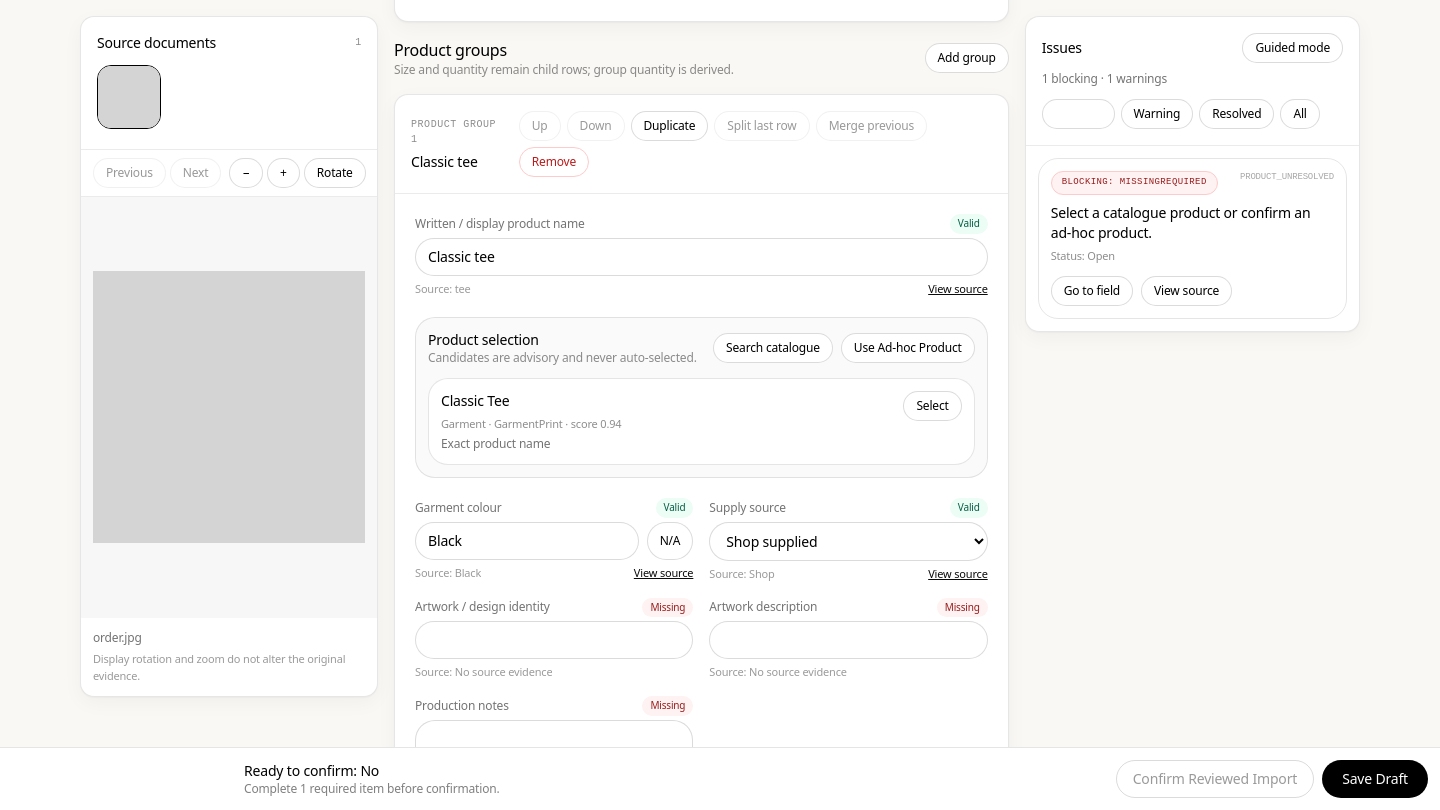
Test case: AI Order Review workspace › selects a candidate explicitly and exposes only compatible variant options
(page scrolled)
Expected: the text "Classic Tee" is shown, [441, 391, 509, 410]
Click the button "Select": (933, 406) [903, 391, 962, 421]
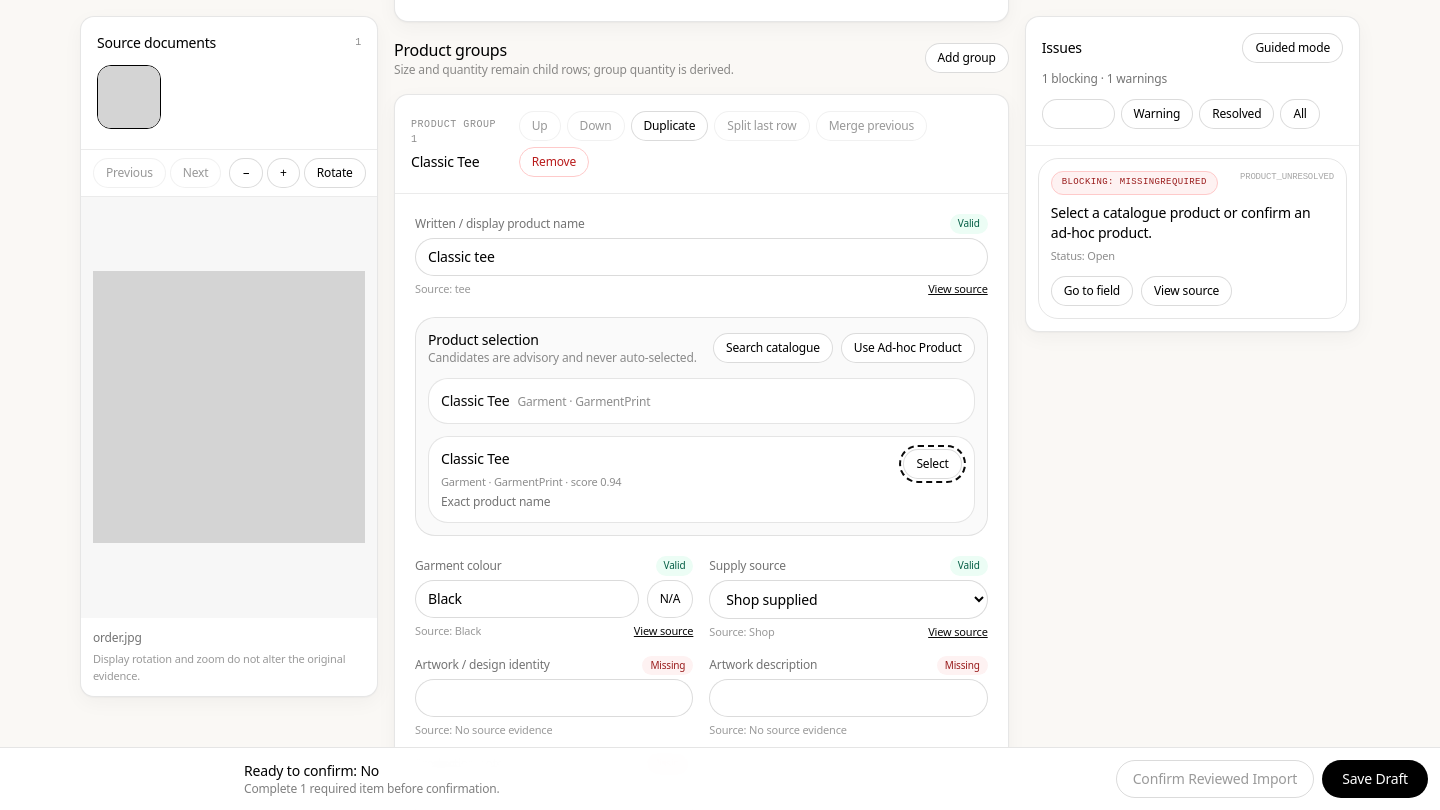
Expected: the text "Garment · GarmentPrint" is shown, [517, 393, 650, 410]
